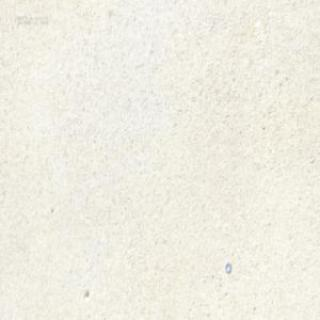Washertrack_idkeyframe: (224, 261, 230, 272)
